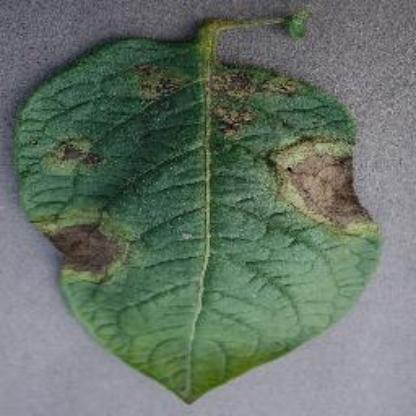Late-Blight: (12, 17, 384, 402)
